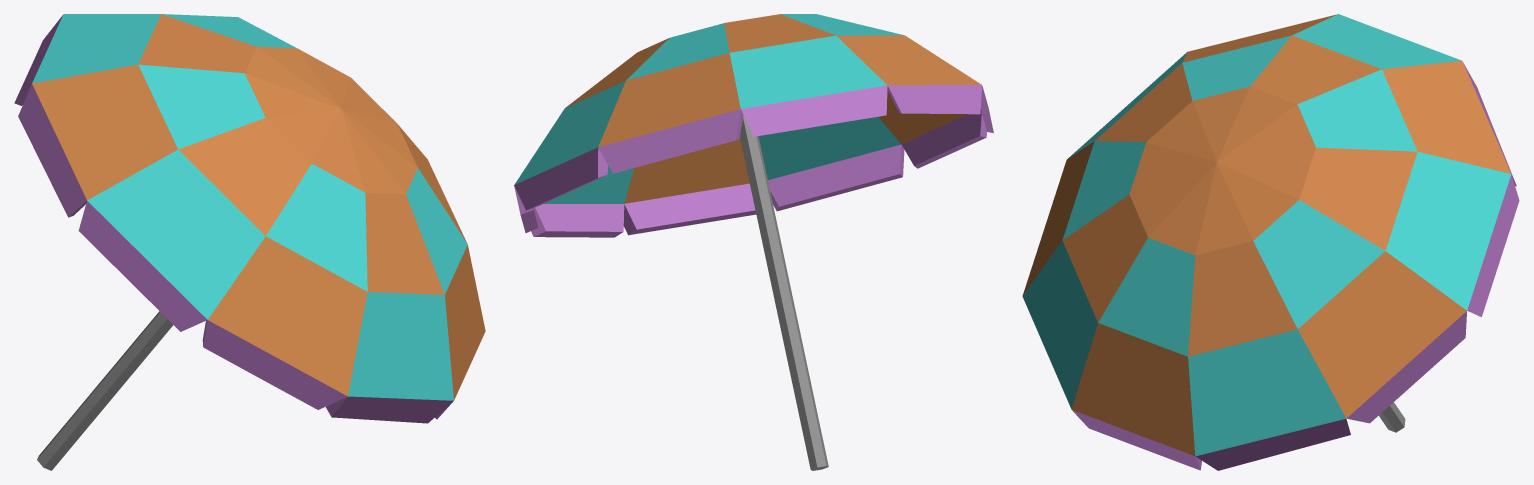
File: Sombrilla2.fbx
The picture shows the model from 3 angles, left to right: view 1: azimuth 30°, elevation 25°; view 2: azimuth 150°, elevation 25°; view 3: azimuth 270°, elevation 25°; orthographic projection. The views are drawn at different scales.
Parts seen in each view (by area): view 1: UMBRELLA6; view 2: UMBRELLA6; view 3: UMBRELLA6.
Boxes of the visible parts, x1,y1,x2,y2 form: UMBRELLA6: (14, 14, 485, 470); UMBRELLA6: (514, 14, 993, 470); UMBRELLA6: (1022, 14, 1519, 470).
Size of the model in its own units: 1.53 by 1.46 by 1.6.
